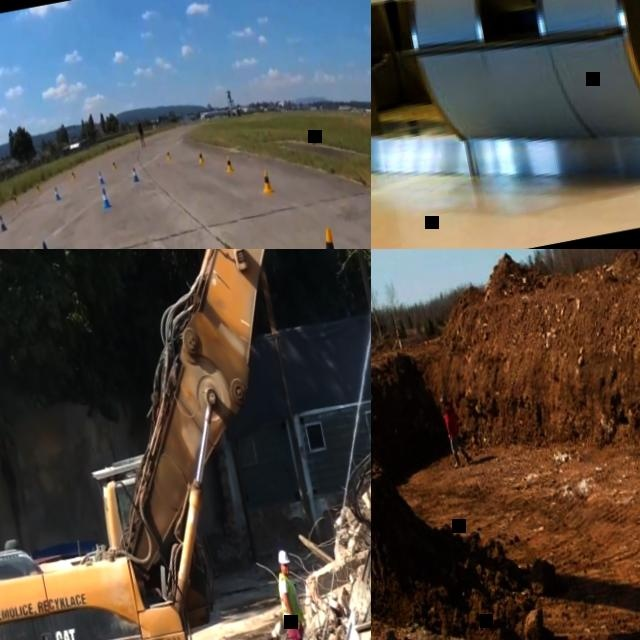Hardhat: (277, 548, 292, 565), (440, 395, 447, 402)
NO-Mask: (283, 565, 291, 576)
NO-Safety Vest: (443, 405, 461, 436), (138, 123, 144, 135)
Person: (268, 544, 316, 640), (438, 389, 473, 468), (137, 119, 147, 146)
Safety Cone: (312, 225, 346, 249), (259, 169, 274, 195), (99, 186, 113, 212), (223, 154, 234, 175), (0, 211, 9, 233), (131, 165, 141, 184), (38, 241, 60, 249), (53, 185, 63, 202), (197, 149, 206, 165), (97, 170, 106, 186), (12, 193, 20, 208), (35, 180, 42, 194), (111, 158, 118, 170), (71, 168, 77, 181), (166, 149, 172, 161)
Safety Vest: (277, 576, 304, 626)
machinery: (0, 249, 371, 640)
